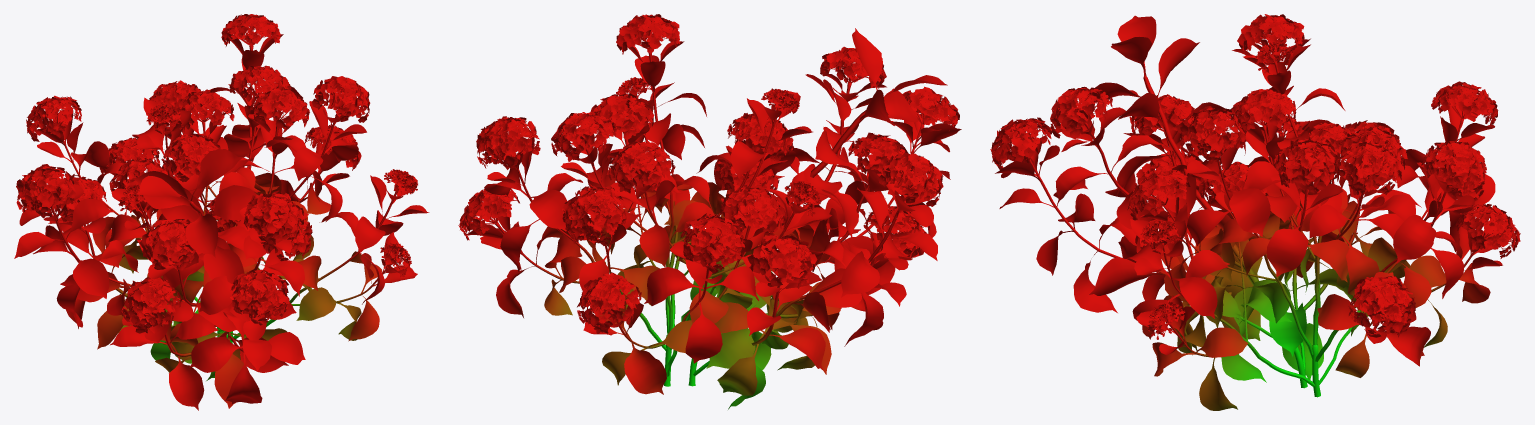
The model's file is Bigleaf Hydrangea_LOD0_Var3_vgztealha.fbx.
The picture shows the model from 3 angles, left to right: view 1: azimuth 30°, elevation 25°; view 2: azimuth 150°, elevation 25°; view 3: azimuth 270°, elevation 25°; orthographic projection. The views are drawn at different scales.
Parts seen in each view (by area): view 1: _5u20_Var3_LOD0; view 2: _5u20_Var3_LOD0; view 3: _5u20_Var3_LOD0.
Part boxes in pixels (x1,y1,x2,y2): _5u20_Var3_LOD0: (14, 14, 429, 410); _5u20_Var3_LOD0: (458, 14, 961, 409); _5u20_Var3_LOD0: (990, 14, 1520, 410).
Size of the model in its own units: 182 by 135 by 194.
